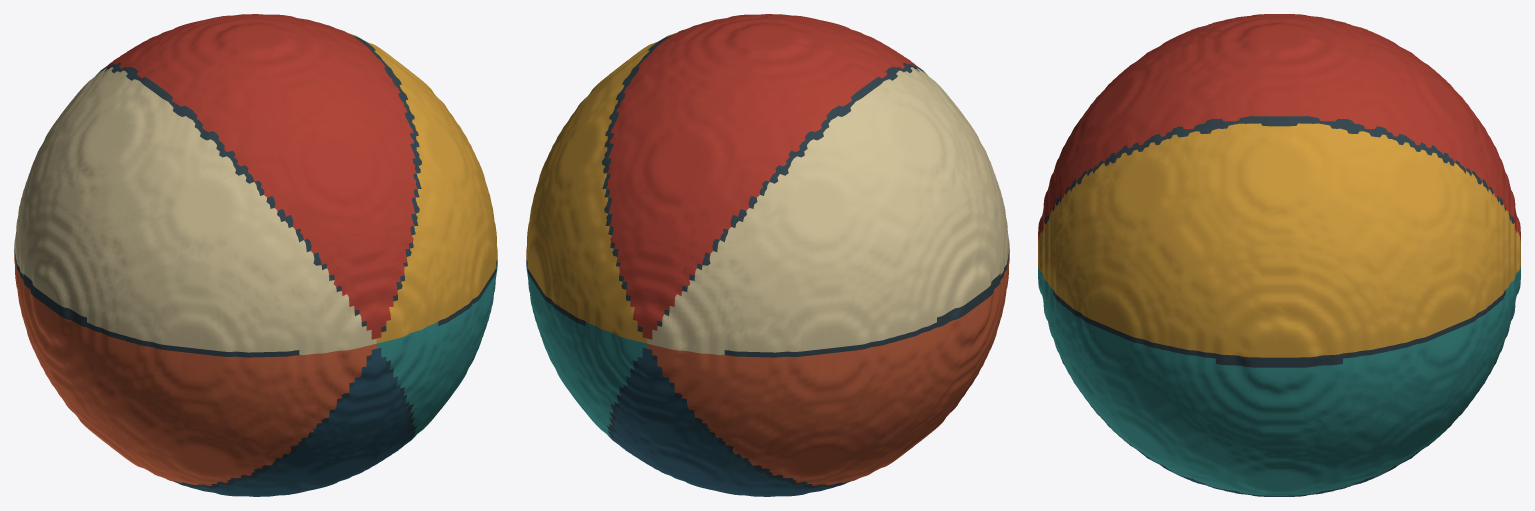
The model's file is ball_beach.glb.
3 renders of one model, left to right at view 1: azimuth 30°, elevation 25°; view 2: azimuth 150°, elevation 25°; view 3: azimuth 270°, elevation 25°, orthographic.
Visible parts, largest first — view 1: __playground; view 2: __playground; view 3: __playground.
Boxes of the visible parts, x1,y1,x2,y2 form: __playground: [14, 14, 497, 496]; __playground: [526, 14, 1009, 496]; __playground: [1038, 14, 1520, 496].
Bounding box in the file's own units: 2.15 × 2.15 × 2.15.
